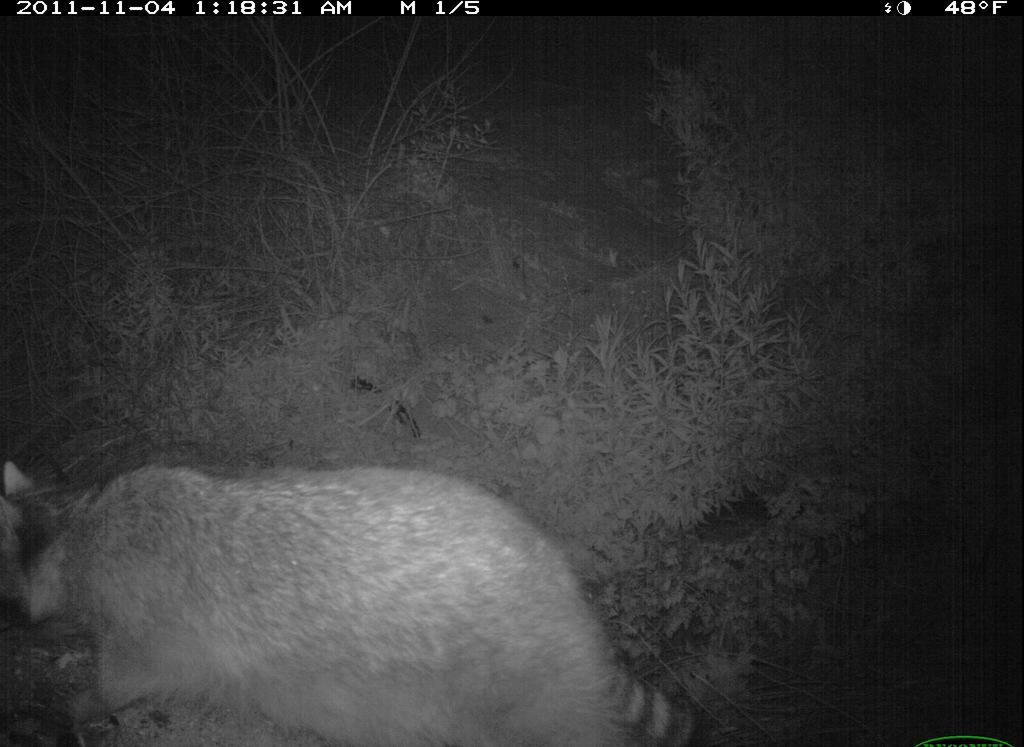raccoon: (1, 440, 712, 747)
